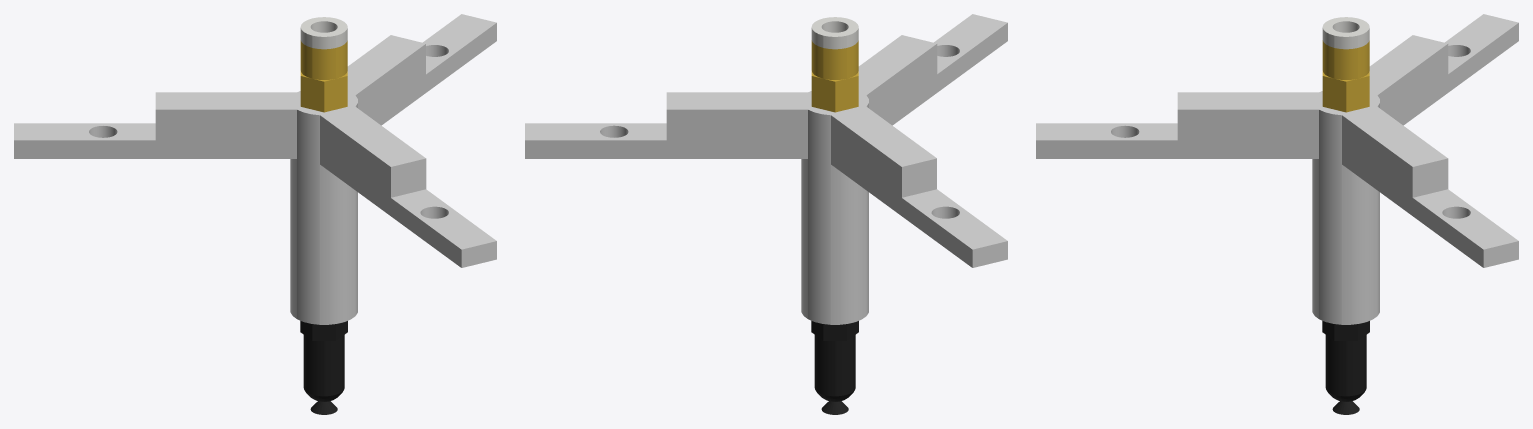
File: gripper complex.dae
The picture shows the model from 3 angles, left to right: view 1: azimuth 30°, elevation 25°; view 2: azimuth 150°, elevation 25°; view 3: azimuth 270°, elevation 25°; orthographic projection.
Parts seen in each view (by area): view 1: SketchUp (×5); view 2: SketchUp (×5); view 3: SketchUp (×5).
Part boxes in pixels (x1,y1,x2,y2): SketchUp (×5): (14, 14, 496, 414); SketchUp (×5): (525, 14, 1007, 414); SketchUp (×5): (1036, 14, 1518, 414).
Size of the model in its own units: 3.23 by 2.8 by 2.44.
